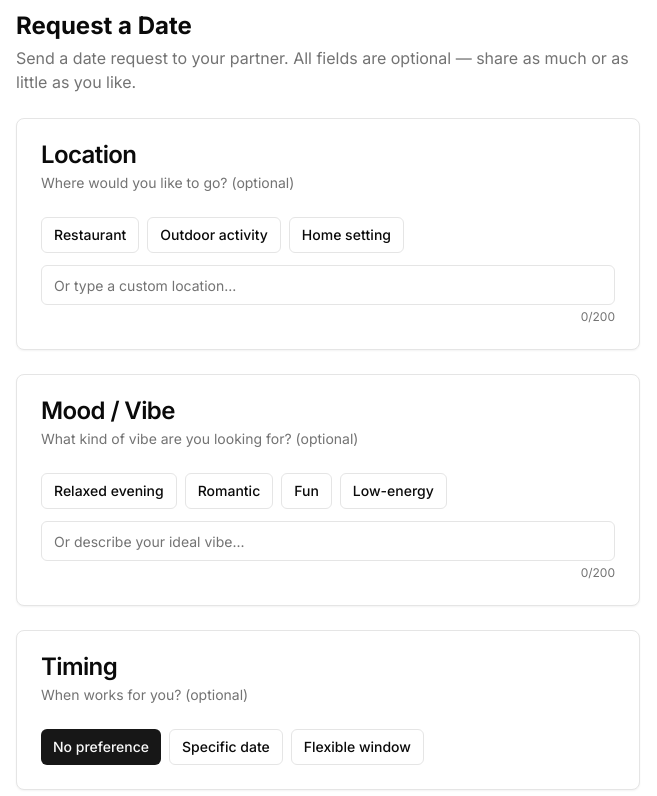
DateRequestPage › allows selecting a location preset
Click the button with test id "location-preset-restaurant" at (90, 235), box [41,217,139,253]
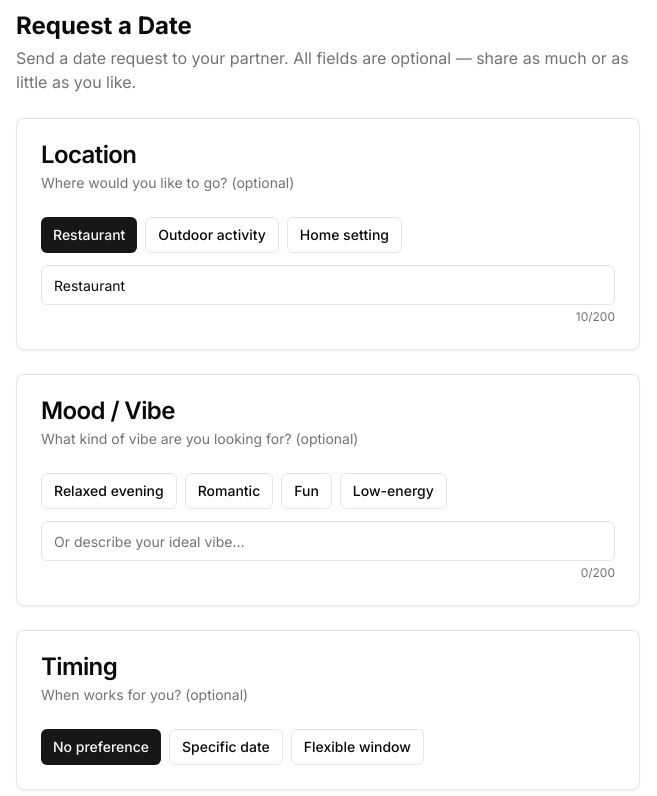
Expected: the field with placeholder "Or type a custom location..." holds "Restaurant", [41,265,615,305]
